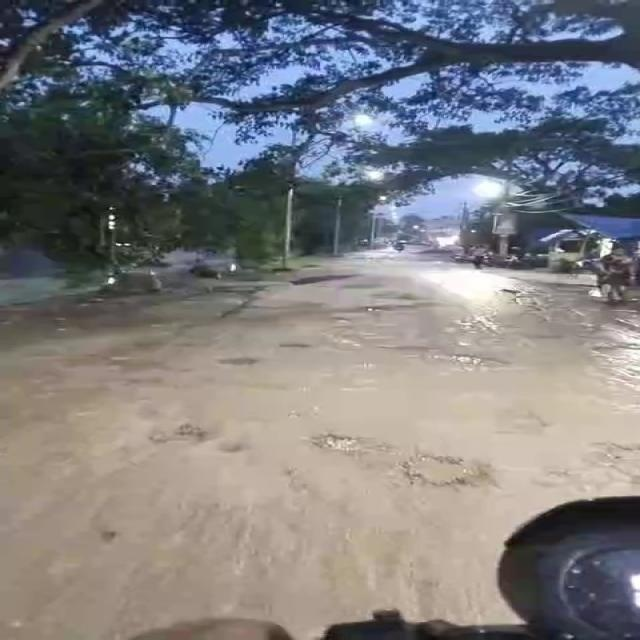pothole: (402, 450, 490, 492), (304, 428, 376, 458), (428, 350, 512, 372), (147, 421, 220, 445), (500, 409, 560, 437), (208, 354, 276, 371), (596, 440, 636, 466), (367, 300, 442, 312), (267, 339, 315, 353), (386, 343, 429, 357), (215, 444, 247, 456), (323, 314, 354, 323)
